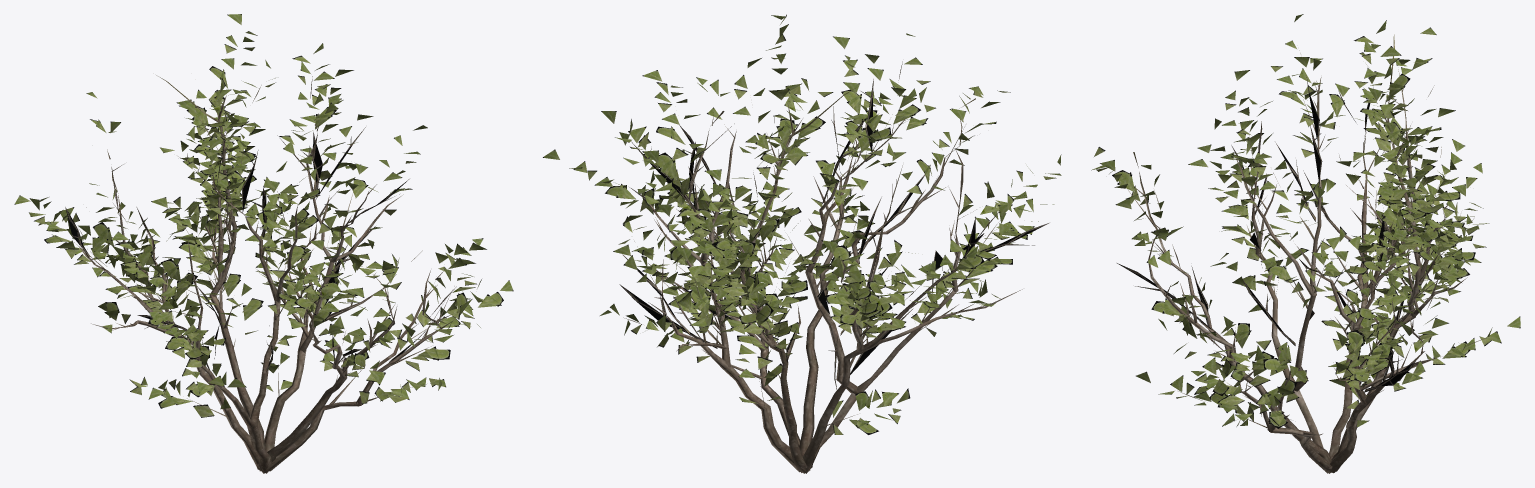
File: shrub0.glb
3 renders of one model, left to right at view 1: azimuth 30°, elevation 25°; view 2: azimuth 150°, elevation 25°; view 3: azimuth 270°, elevation 25°, orthographic. The views are drawn at different scales.
Visible parts, largest first — view 1: searsia_lucida_d_LOD0; view 2: searsia_lucida_d_LOD0; view 3: searsia_lucida_d_LOD0.
Boxes of the visible parts, left/top/right/bottom form: searsia_lucida_d_LOD0: left=14, top=14, right=513, bottom=473; searsia_lucida_d_LOD0: left=543, top=14, right=1061, bottom=473; searsia_lucida_d_LOD0: left=1091, top=14, right=1520, bottom=473.
Bounding box in the file's own units: 1.4 × 1.36 × 1.19.
Materials: 2 (2 with a texture image).
